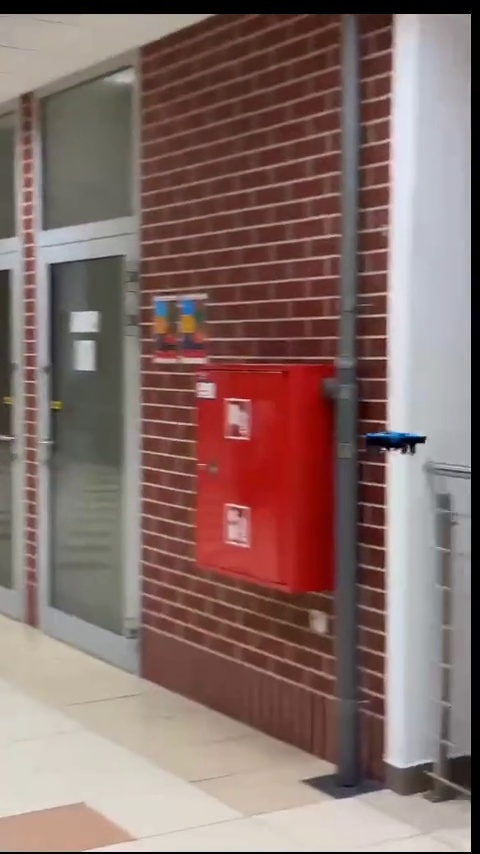drone: (361, 429, 432, 455)
